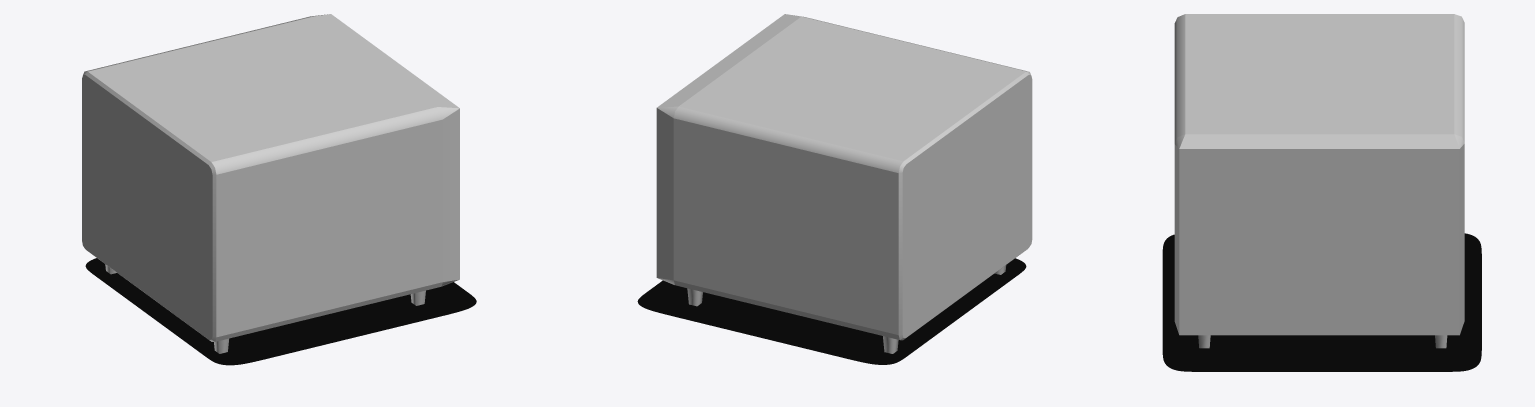
The model's file is speaker_LOD.fbx.
3 renders of one model, left to right at view 1: azimuth 30°, elevation 25°; view 2: azimuth 150°, elevation 25°; view 3: azimuth 270°, elevation 25°, orthographic. The views are drawn at different scales.
Parts seen in each view (by area): view 1: speaker_LOD, speaker_shadow; view 2: speaker_LOD, speaker_shadow; view 3: speaker_LOD, speaker_shadow.
Part boxes in pixels (x1,y1,x2,y2): speaker_LOD: (82,14,459,353); speaker_shadow: (85,258,476,365); speaker_LOD: (656,14,1032,353); speaker_shadow: (637,258,1026,364); speaker_LOD: (1174,14,1464,348); speaker_shadow: (1162,233,1481,371).
Size of the model in its own units: 44.75 by 24.79 by 40.64.
